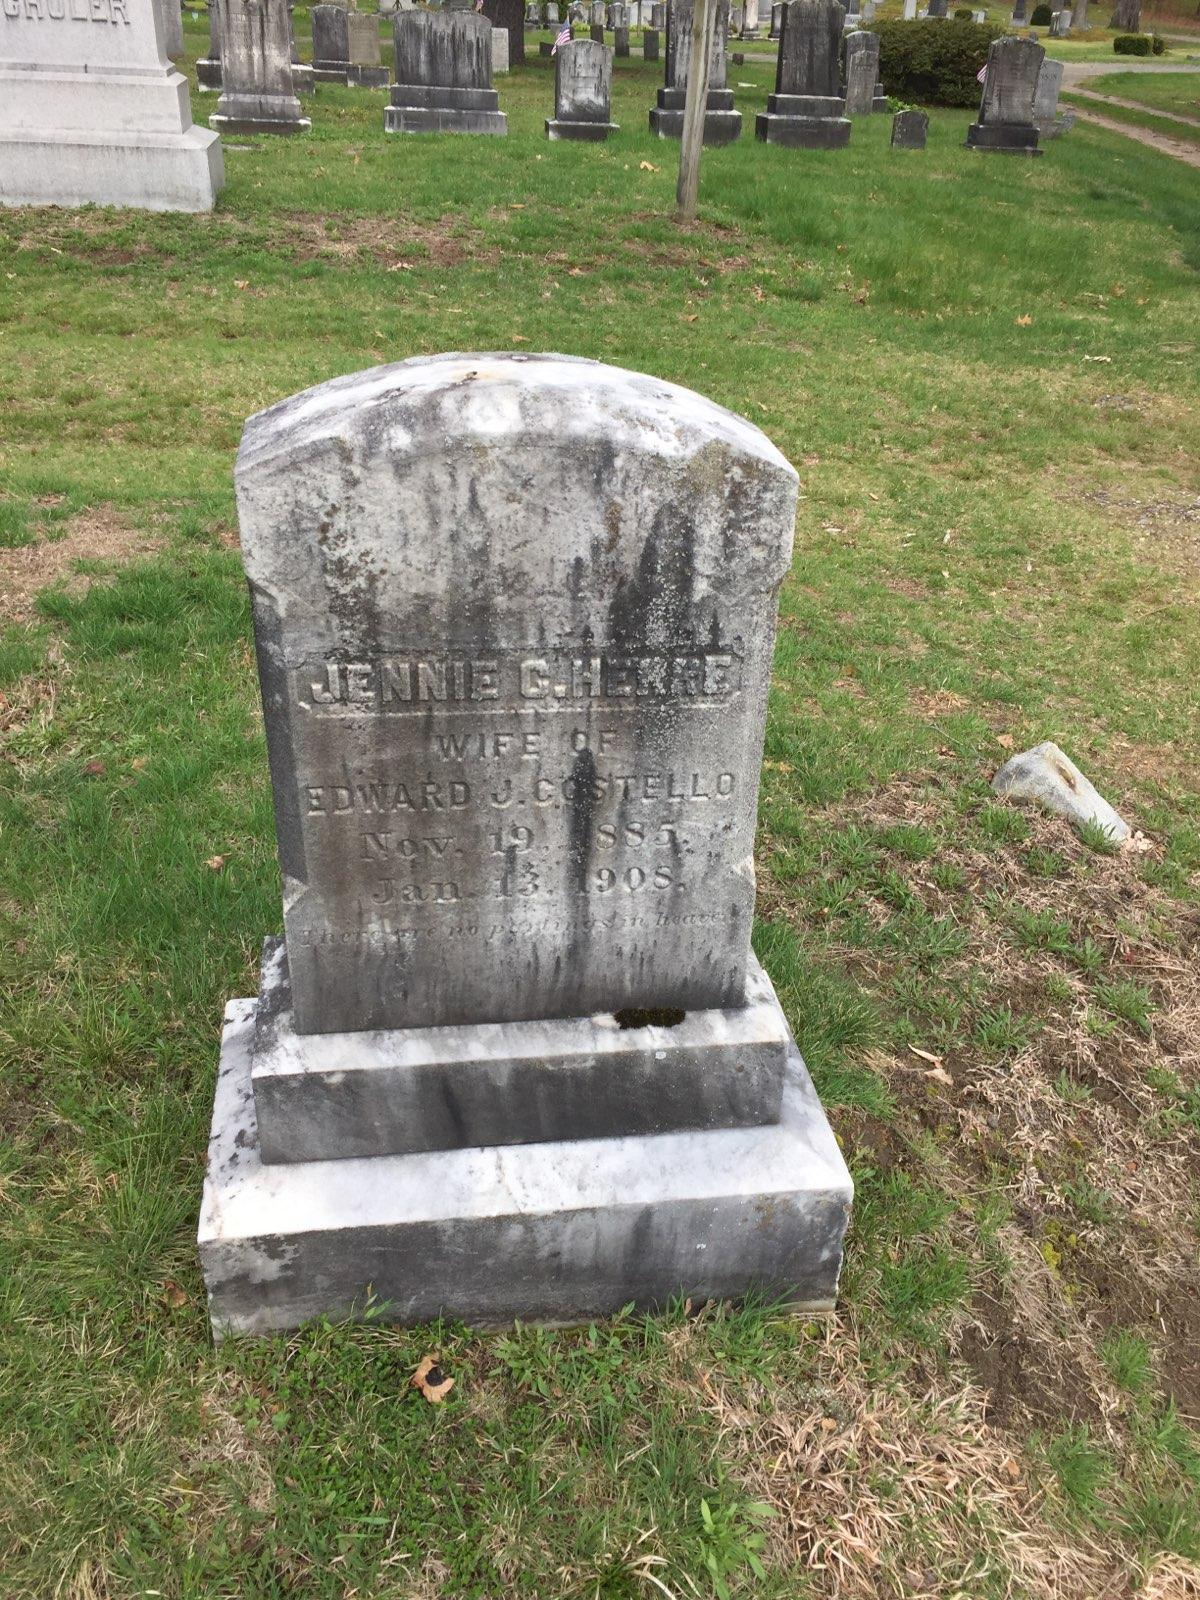upright: (228, 367, 792, 1029)
